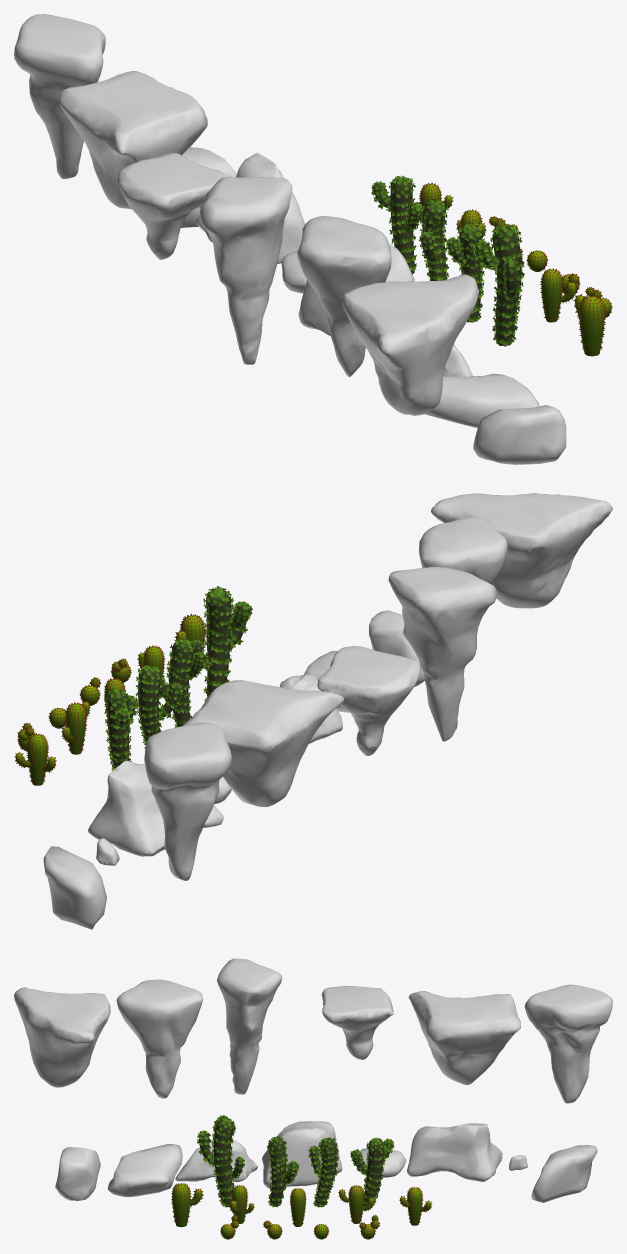
The model's file is Rock&Cacti.fbx.
3 renders of one model, top to bottom at view 1: azimuth 30°, elevation 25°; view 2: azimuth 150°, elevation 25°; view 3: azimuth 270°, elevation 25°, orthographic. The views are drawn at different scales.
Parts seen in each view (by area): view 1: Rock.006, Rock.007, Rock.014, Rock.011, Rock.001, Rock.005, Rock.019, Rock.021, Sphere.016, Sphere.009, Rock.004, Sphere.020 (+6 smaller); view 2: Rock.007, Rock.006, Rock.014, Rock.011, Rock.005, Rock.004, Rock.001, Rock.018, Sphere.016, Sphere.020, Sphere.015, Sphere.009 (+5 smaller); view 3: Rock.007, Rock.006, Rock.011, Rock.001, Rock.014, Rock.004, Rock.005, Rock.021, Rock.018, Rock.003, Sphere.016, Rock.019 (+10 smaller).
Part boxes in pixels (x1=…): Rock.006: x1=342, y1=274, x2=478, y2=415; Rock.007: x1=58, y1=71, x2=207, y2=209; Rock.014: x1=199, y1=176, x2=292, y2=364; Rock.011: x1=14, y1=14, x2=105, y2=179; Rock.001: x1=297, y1=216, x2=391, y2=377; Rock.005: x1=117, y1=152, x2=227, y2=259; Rock.019: x1=473, y1=405, x2=566, y2=464; Rock.021: x1=424, y1=373, x2=539, y2=427; Sphere.016: x1=472, y1=224, x2=524, y2=346; Sphere.009: x1=371, y1=176, x2=422, y2=274; Rock.004: x1=195, y1=152, x2=304, y2=263; Sphere.020: x1=418, y1=198, x2=449, y2=280; Rock.007: x1=182, y1=680, x2=344, y2=806; Rock.006: x1=431, y1=493, x2=612, y2=608; Rock.014: x1=388, y1=566, x2=496, y2=741; Rock.011: x1=144, y1=722, x2=231, y2=880; Rock.005: x1=317, y1=646, x2=420, y2=755; Rock.004: x1=87, y1=760, x2=223, y2=856; Rock.001: x1=419, y1=516, x2=507, y2=584; Rock.018: x1=43, y1=846, x2=106, y2=929; Sphere.016: x1=191, y1=586, x2=252, y2=701; Sphere.020: x1=135, y1=665, x2=182, y2=748; Sphere.015: x1=157, y1=638, x2=206, y2=727; Sphere.009: x1=104, y1=688, x2=138, y2=770; Rock.007: x1=408, y1=991, x2=520, y2=1085; Rock.006: x1=14, y1=987, x2=110, y2=1087; Rock.011: x1=524, y1=984, x2=612, y2=1103; Rock.001: x1=116, y1=979, x2=203, y2=1098; Rock.014: x1=217, y1=958, x2=282, y2=1094; Rock.004: x1=407, y1=1123, x2=502, y2=1181; Rock.005: x1=321, y1=986, x2=393, y2=1059; Rock.021: x1=107, y1=1144, x2=182, y2=1197; Rock.018: x1=531, y1=1145, x2=597, y2=1202; Rock.003: x1=262, y1=1121, x2=342, y2=1188; Sphere.016: x1=197, y1=1115, x2=245, y2=1207; Rock.019: x1=55, y1=1147, x2=100, y2=1200.
Bounding box in the file's own units: 2877 × 1561 × 5129.
